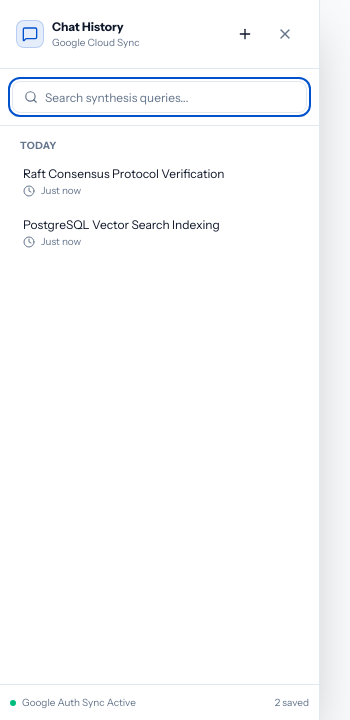
Test: ChatHistorySidebar Component › filters cached conversations by title when typing in search input
Expected: the text "Raft Consensus Protocol Verification" is shown, [23, 166, 224, 181]
Expected: the text "PostgreSQL Vector Search Indexing" is shown, [23, 217, 220, 232]
Type "Raft" into the search field named "search conversation history" at (160, 97), box [12, 81, 307, 113]
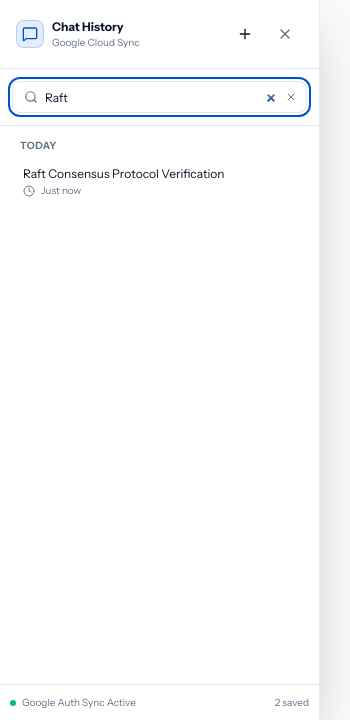
Expected: the text "Raft Consensus Protocol Verification" is shown, [23, 166, 224, 181]
Expected: the button "PostgreSQL Vector Search Indexing" is gone
